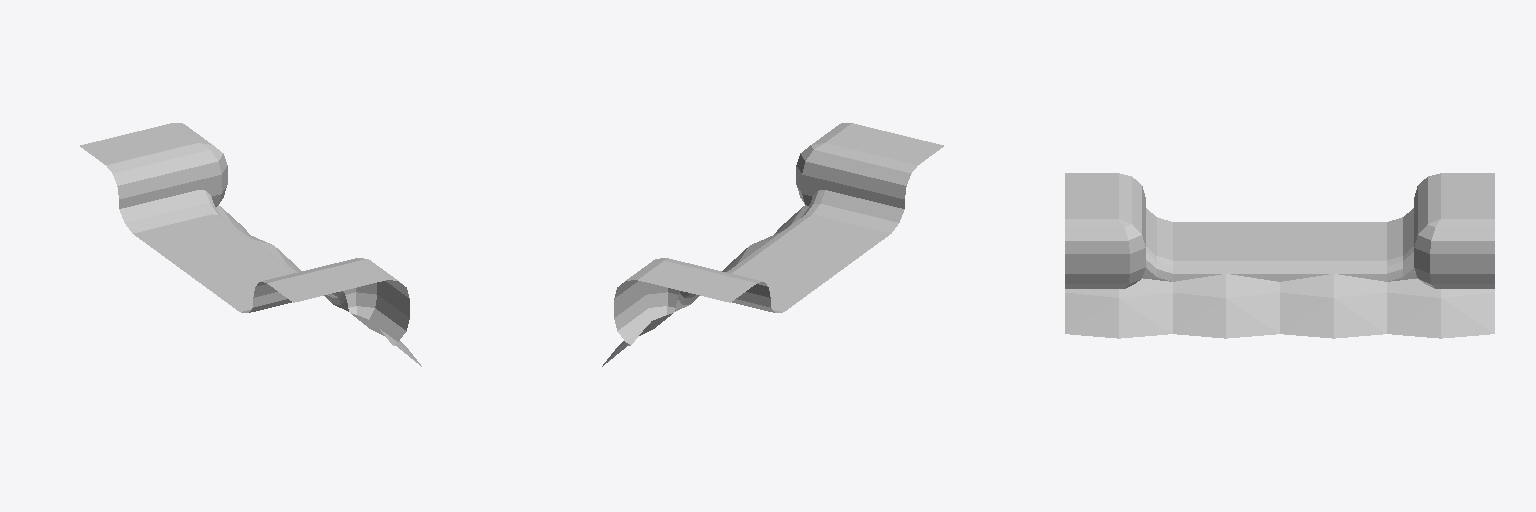
The model's file is Track_Cliff_Edge_Standard_1_Tall_Double.obj.
The picture shows the model from 3 angles: view 1: azimuth 30°, elevation 25°; view 2: azimuth 150°, elevation 25°; view 3: azimuth 270°, elevation 25°; orthographic projection.
Parts seen in each view (by area): view 1: Grass, Dirt, Rock; view 2: Grass, Dirt, Rock; view 3: Rock, Grass, Dirt.
Part boxes in pixels (x1,y1,x2,y2): Grass: (80, 123, 409, 344); Dirt: (119, 190, 348, 312); Rock: (215, 205, 421, 366); Grass: (614, 123, 943, 344); Dirt: (675, 190, 904, 312); Rock: (602, 205, 808, 366); Rock: (1065, 274, 1494, 338); Grass: (1065, 173, 1494, 288); Dirt: (1143, 208, 1416, 281).
Size of the model in its own units: 1.5 by 1 by 4.